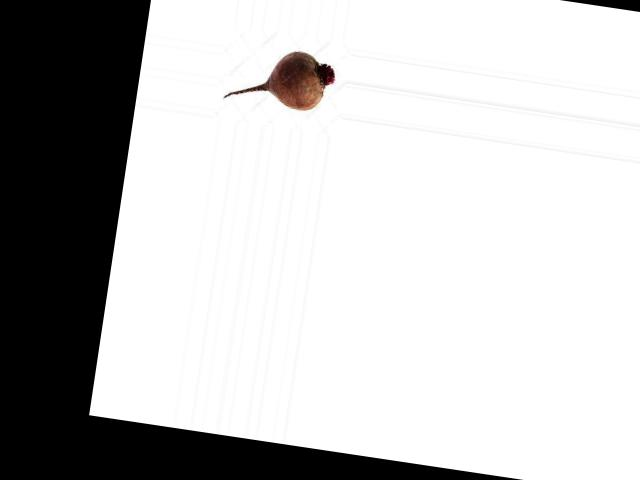beet: (224, 40, 337, 114)
